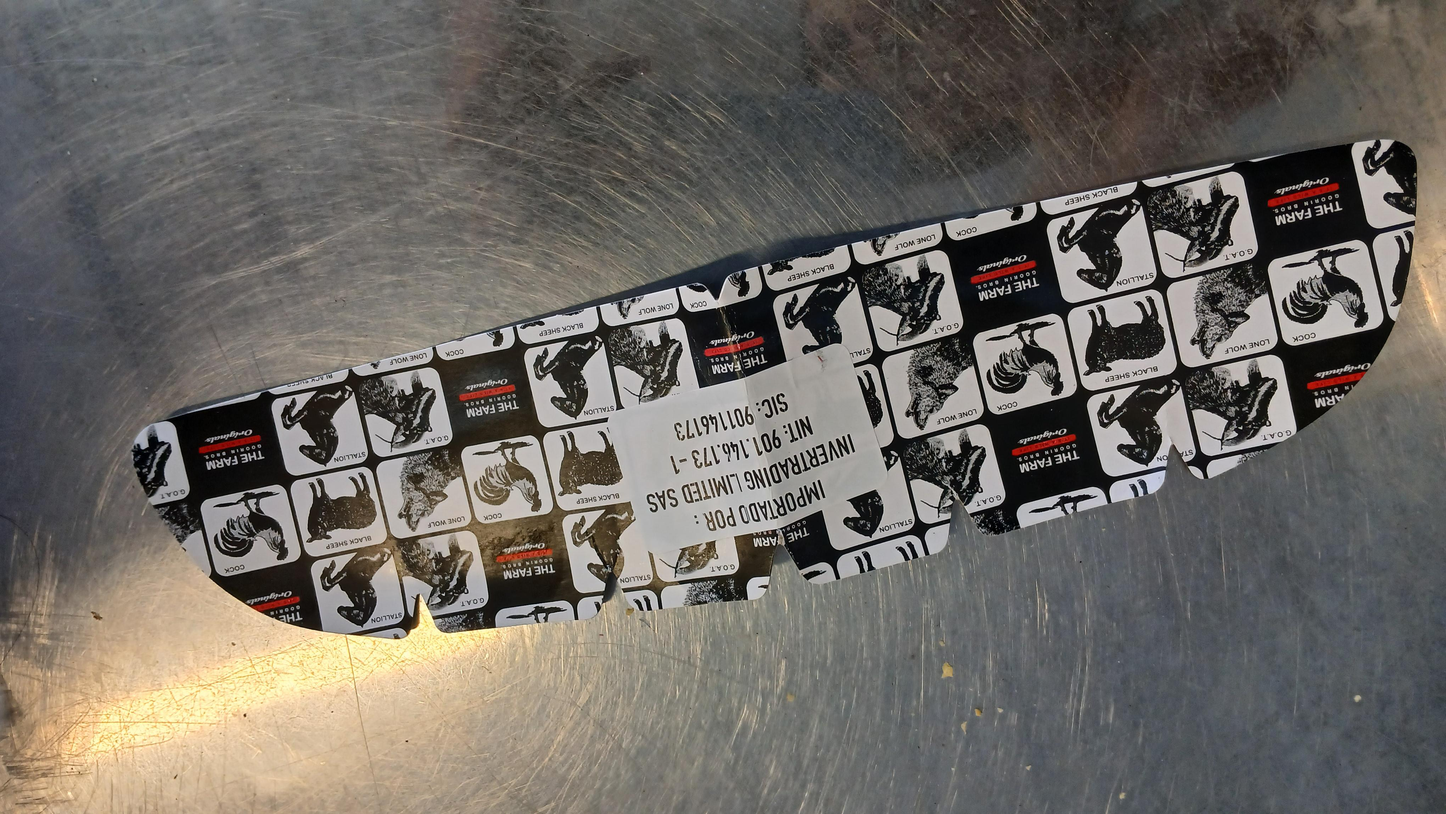Carton: (131, 137, 1417, 639)
